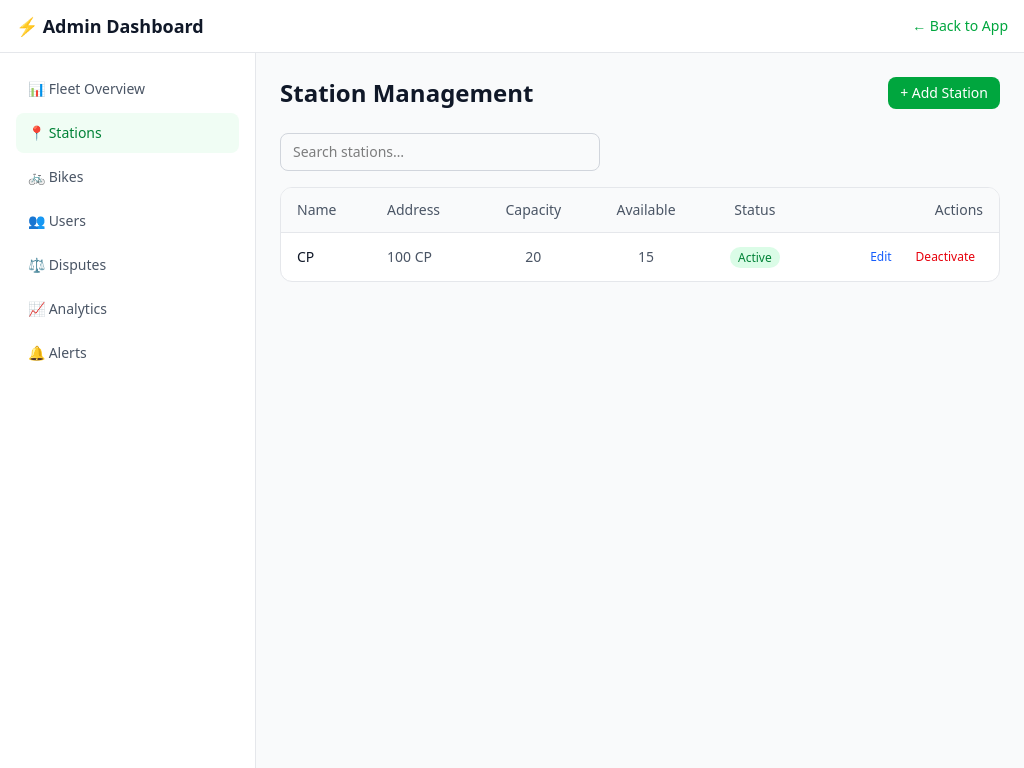
Test case: StationManagement › opens edit station modal
Expected: the text "CP" is shown, [281,232,371,281]
Step 1. Click the button "Edit" → (881, 257), box [862,245,900,269]
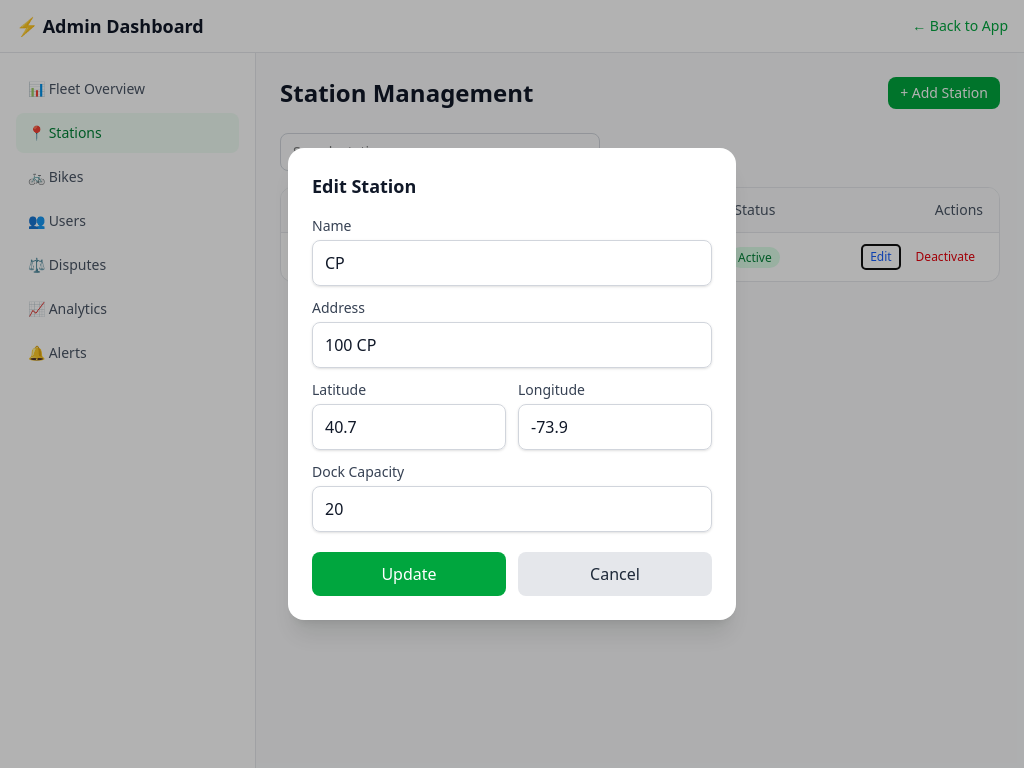
Now the heading "Edit Station" is shown, box [312,174,416,198]
